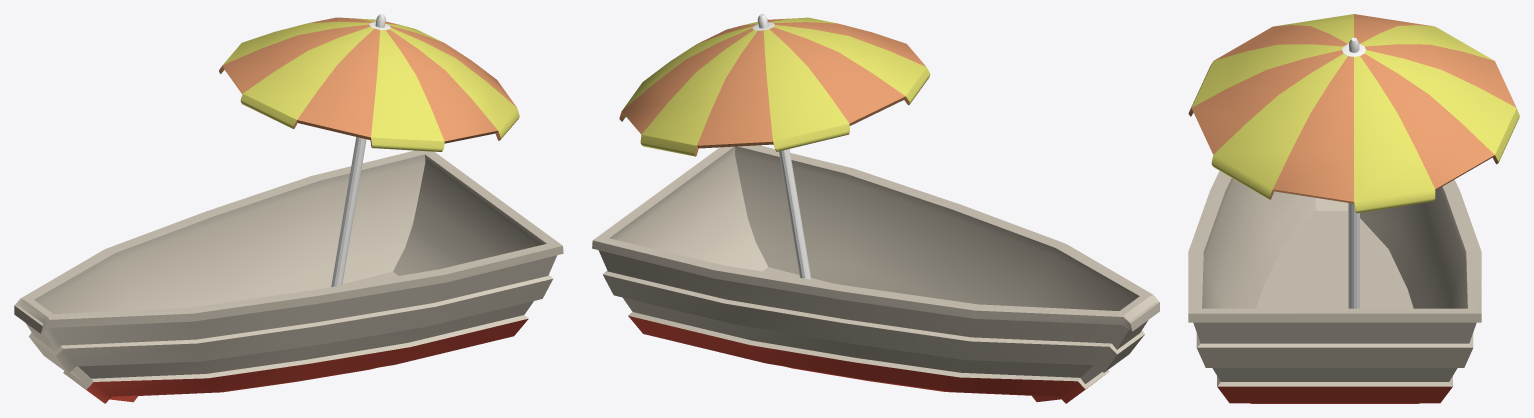
Rendered from barco.obj.
The picture shows the model from 3 angles, left to right: view 1: azimuth 30°, elevation 25°; view 2: azimuth 150°, elevation 25°; view 3: azimuth 270°, elevation 25°; orthographic projection. The views are drawn at different scales.
Parts seen in each view (by area): view 1: Plane.006; view 2: Plane.006; view 3: Plane.006.
Part boxes in pixels (x1=…): Plane.006: x1=14, y1=14, x2=563, y2=403; Plane.006: x1=592, y1=14, x2=1159, y2=403; Plane.006: x1=1188, y1=14, x2=1519, y2=403.
Size of the model in its own units: 17.25 by 10.71 by 9.47.
